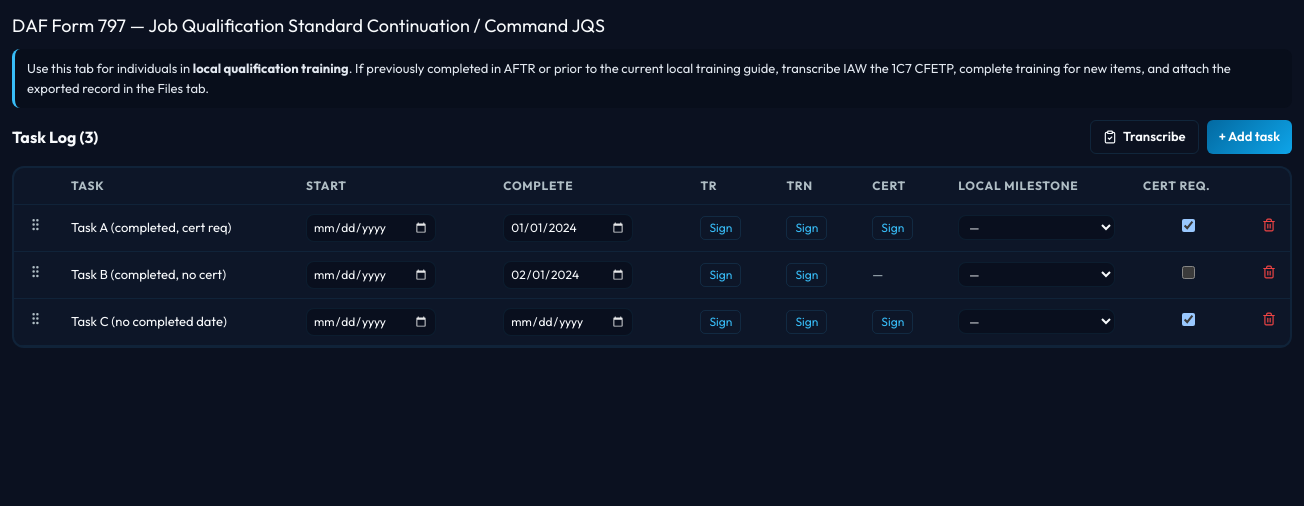
797 bulk transcribe UI › offers Trainee + Trainer but not Certifier (certifier is cleared, not transcribed)
Step 1. Click the button "Transcribe" → click(1144, 137), box top-left (1090, 120), bottom-right (1199, 154)
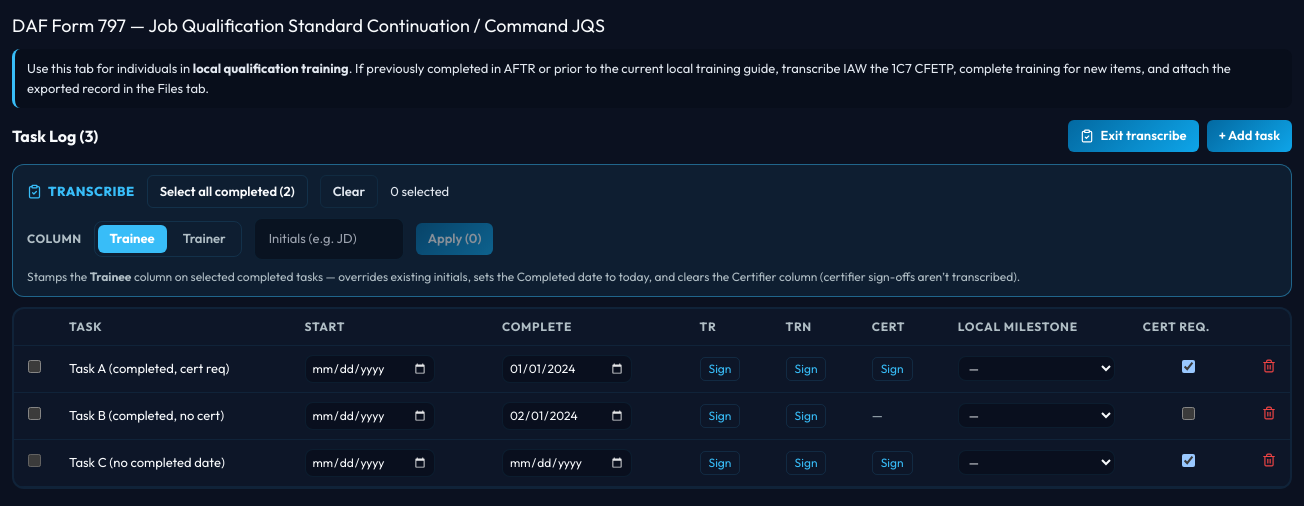
Now the button "Trainee" is shown, box top-left (98, 225), bottom-right (167, 252)
Now the button "Trainer" is shown, box top-left (171, 225), bottom-right (238, 252)
